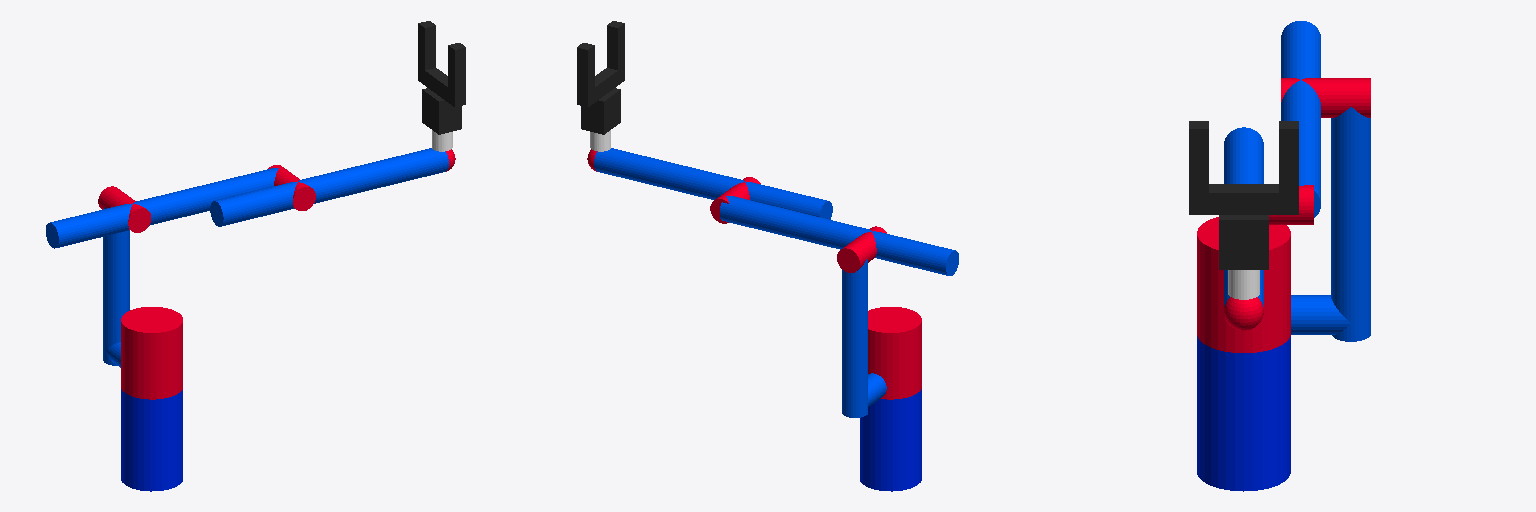
URDF robot description (pentaxis):
<?xml version="1.0" ?>
<!-- =================================================================================== -->
<!-- |    This document was autogenerated by xacro from pentaxis006.urdf.xacro         | -->
<!-- |    EDITING THIS FILE BY HAND IS NOT RECOMMENDED                                 | -->
<!-- =================================================================================== -->
<!-- Revolute-Revolute Manipulator -->
<robot name="pentaxis" xmlns:xacro="http://www.ros.org/wiki/xacro">
  <!-- Denavit-Hartenberg parameters -->
  <!-- not implemented -->
  <!-- OG: 0.252 -->
  <!-- not implemented -->
  <!-- -0.87+2*PI -->
  <!-- 1.50 -->
  <!-- 2.50 -->
  <!-- not implemented -->
  <link name="base_footprint">
    <visual>
      <origin rpy="0 0 0" xyz="0 0 0"/>
      <geometry>
        <box size="0.001 0.001 0.001"/>
      </geometry>
    </visual>
  </link>
  <joint name="base_footprint_joint" type="fixed">
    <origin rpy="0 0 0" xyz="0 0 0"/>
    <child link="base_link"/>
    <parent link="base_footprint"/>
  </joint>
  <link name="base_link">
    <visual>
      <geometry>
        <cylinder length="0.152" radius="0.0469507"/>
      </geometry>
      <origin rpy="0 0 0" xyz="0 0 0.076"/>
      <material name="blue1">
        <color rgba="0 0.2 1 1"/>
      </material>
    </visual>
  </link>
  <link name="link1">
    <!-- motor (in red) -->
    <visual>
      <geometry>
        <cylinder length="0.11" radius="0.0469507"/>
      </geometry>
      <origin rpy="0 0 0" xyz="0 0 0"/>
      <material name="red1">
        <color rgba="1 0 0.2 1"/>
      </material>
    </visual>
    <!--  -->
  </link>
  <!-- JOINT1 Base - Link1 -->
  <joint name="base_link_to_link1" type="revolute">
    <axis xyz="0 0 1"/>
    <limit effort="1000.0" lower="-2.5" upper="2.5" velocity="0.5"/>
    <parent link="base_link"/>
    <child link="link1"/>
    <!--z=base_link.length+link1.length/2 -->
    <origin xyz="0 0 0.207"/>
  </joint>
  <!-- Link 1_1 -->
  <link name="link1_1">
    <visual>
      <geometry>
        <cylinder length="0.06" radius="0.02"/>
      </geometry>
      <origin rpy="1.57079632679 0 0" xyz="0 0 0"/>
      <material name="blue2">
        <color rgba="0 0.4 1 1"/>
      </material>
    </visual>
  </link>
  <!-- -->
  <joint name="link1_to_link1_1" type="fixed">
    <parent link="link1"/>
    <child link="link1_1"/>
    <origin rpy="0 0 0" xyz="0 0.0769507 -0.035"/>
  </joint>
  <link name="link1_2">
    <visual>
      <geometry>
        <cylinder length="0.259" radius="0.02"/>
      </geometry>
      <origin rpy="0 0 0" xyz="0 0 0"/>
      <material name="blue2">
        <color rgba="0 0.4 1 1"/>
      </material>
    </visual>
  </link>
  <!-- -->
  <joint name="link1_1_to_link1_2" type="fixed">
    <axis xyz="0 0 0"/>
    <parent link="link1_1"/>
    <child link="link1_2"/>
    <!-- z=link1_2.length/2 - link1_1.radius = 0.1095 -->
    <!-- y=-link1_1.length/2 = -0.03 -->
    <origin rpy="0 0 0" xyz="0 0.03 0.1095"/>
  </joint>
  <!-- %%%%%%%%%%%%%%%%%%%%%%%%%%%%%%%%%%%%%%%%%%%%%%%%%%%%%% -->
  <!-- Link 2 -->
  <link name="link2">
    <visual>
      <geometry>
        <cylinder length="0.09" radius="0.02"/>
      </geometry>
      <origin rpy="1.57079632679 0 0" xyz="0 0 0"/>
      <material name="red1">
        <color rgba="1 0 0.2 1"/>
      </material>
    </visual>
  </link>
  <!-- -->
  <joint name="link1_to_link2" type="revolute">
    <axis xyz="0 1 0"/>
    <limit effort="1000.0" lower="-3.14159" upper="1.1" velocity="0.5"/>
    <parent link="link1_2"/>
    <child link="link2"/>
    <!-- y=link2.length/2 - link2.radius = 0.025 -->
    <!-- z=link1_2/2 = 0.1295 -->
    <origin rpy="0 0.0 0" xyz="0 -0.025 0.1295"/>
  </joint>
  <!-- link2_1 -->
  <link name="link2_1">
    <visual>
      <geometry>
        <cylinder length="0.392" radius="0.02"/>
      </geometry>
      <!-- <origin rpy="0 0 0" xyz="0 0 0.056"/> -->
      <origin rpy="0 1.57079632679 0" xyz="0 0 0"/>
      <material name="blue2">
        <color rgba="0 0.4 1 1"/>
      </material>
    </visual>
  </link>
  <!-- -->
  <joint name="link2_to_link2_1" type="fixed">
    <axis xyz="0 0 0"/>
    <parent link="link2"/>
    <child link="link2_1"/>
    <!-- y=link2.length/2 - link2_1.radius/2 = -0.025 -->
    <!-- x=link2_1.length/2 - 0.140 = 0.056 -->
    <origin rpy="0 0 0" xyz="0.056 -0.025 0"/>
  </joint>
  <!-- %%%%%%%%%%%%%%%%%%%%%%%%%%%%%%%%%%%%%%%%%%%%%%%%%%%%%% -->
  <!-- Link 3 -->
  <link name="link3">
    <visual>
      <geometry>
        <cylinder length="0.09" radius="0.02"/>
      </geometry>
      <origin rpy="-1.57079632679 0 0" xyz="0 0 0"/>
      <material name="red1">
        <color rgba="1 0 0.2 1"/>
      </material>
    </visual>
  </link>
  <!-- -->
  <joint name="link2_to_link3" type="revolute">
    <axis xyz="0 1 0"/>
    <limit effort="1000.0" lower="-2.15" upper="2.15" velocity="0.5"/>
    <parent link="link2_1"/>
    <child link="link3"/>
    <!-- y=-link2_1.length/2 - 0.0069507 -->
    <!-- x=link3.length/2 - link2_1.radius -->
    <origin rpy="0 0.0 0" xyz="0.196 -0.0319507 0"/>
  </joint>
  <!-- link3_1 -->
  <link name="link3_1">
    <visual>
      <geometry>
        <cylinder length="0.39" radius="0.02"/>
      </geometry>
      <origin rpy="0 1.57079632679 0" xyz="0 0 0"/>
      <material name="blue2">
        <color rgba="0 0.4 1 1"/>
      </material>
    </visual>
  </link>
  <!-- -->
  <joint name="link3_to_link3_1" type="fixed">
    <axis xyz="0 0 0"/>
    <parent link="link3"/>
    <child link="link3_1"/>
    <!-- y=link3.length/2 - link3_1.radius-->
    <!-- x=link3_1/2 - 0.140 -->
    <origin rpy="0 0 0" xyz="0.055 -0.025 0"/>
  </joint>
  <!-- %%%%%%%%%%%%%%%%%%%%%%%%%%%%%%%%%%%%%%%%%%%%%%%%%%%%%% -->
  <link name="link4">
    <visual>
      <geometry>
        <sphere radius="0.02"/>
      </geometry>
      <origin rpy="0 0 0" xyz="0 0 0"/>
      <material name="red1">
        <color rgba="1 0 0.2 1"/>
      </material>
    </visual>
  </link>
  <!-- -->
  <joint name="link3_to_link4" type="revolute">
    <axis xyz="0 1 0"/>
    <limit effort="1000.0" lower="0" upper="3.14159" velocity="0.5"/>
    <parent link="link3_1"/>
    <child link="link4"/>
    <!-- z=link3_1.length/2 -->
    <origin rpy="0 0.0 0" xyz="0.195 0 0"/>
  </joint>
  <!-- %%%%%%%%%%%%%%%%%%%%%%%%%%%%%%%%%%%%%%%%%%%%%%%%%%%%%% -->
  <link name="link5">
    <visual>
      <geometry>
        <cylinder length="0.035" radius="0.016"/>
      </geometry>
      <!-- <origin rpy="0 0 0" xyz="0 0 0"/> -->
      <!-- z=link5.length/2 -->
      <origin rpy="0 0 0" xyz="0 0 0.002"/>
      <material name="color2">
        <color rgba="1 1 1 1"/>
      </material>
    </visual>
  </link>

  <joint name="link4_to_link5" type="revolute">
    <axis xyz="0 0 1"/>
		<mimic joint="link3_to_link4" multiplier="1.0" offset="0.0" />
    <!-- <mimic joint="eef2_to_eef_left" multiplier="1.0" offset="0.0"/> -->
    <limit effort="1000.0" lower="-1.570796327" upper="1.570796327" velocity="0.5"/>
    <parent link="link4"/>
    <child link="link5"/>
    <!-- <origin rpy="0 0 0" xyz="0 0 0.0275"/> -->
    <origin rpy="0 0 0" xyz="0 0 0.035"/>
    
  </joint>
  <!-- %%%%%%%%%%%%%%%%%%%%%%%%%%%%%%%%%%%%%%%%%%%%%%%%%%%%%% -->
  <link name="eef1">
    <visual>
      <geometry>
        <box size="0.05 0.04 0.055"/>
      </geometry>
      <origin rpy="0 0 0" xyz="0 0 0"/>
      <material name="color3">
        <color rgba="0.2 0.2 0.2 1"/>
      </material>
    </visual>
  </link>
  <joint name="link5_to_eef1" type="fixed">
    <parent link="link5"/>
    <child link="eef1"/>
    <!-- z=?-->
    <origin rpy="0 0 -1.570796327" xyz="0 0 0.047"/>
  </joint>
  <link name="eef2">
    <visual>
      <geometry>
        <box size="0.11 0.02 0.025"/>
      </geometry>
      <origin rpy="0 0 0" xyz="0 0 0"/>
      <material name="color3">
        <color rgba="0.2 0.2 0.2 1"/>
      </material>
    </visual>
  </link>
  <joint name="eef1_to_eef2" type="fixed">
    <parent link="eef1"/>
    <child link="eef2"/>
    <origin rpy="0 0 0" xyz="0 0 0.04"/>
  </joint>
  <link name="eef_left">
    <visual>
      <geometry>
        <box size="0.02 0.02 0.07"/>
      </geometry>
      <origin rpy="0 0 0" xyz="0 0 0"/>
      <material name="color3">
        <color rgba="0.2 0.2 0.2 1"/>
      </material>
    </visual>
  </link>
  <joint name="eef2_to_eef_left" type="prismatic">
    <axis xyz="1 0 0"/>
    <limit effort="1000.0" lower="-0.045" upper="0" velocity="0.5"/>
    <parent link="eef2"/>
    <child link="eef_left"/>
    <origin rpy="0 0 0" xyz="0.045 0 0.0475"/>
  </joint>
  <link name="eef_right">
    <visual>
      <geometry>
        <box size="0.02 0.02 0.07"/>
      </geometry>
      <origin rpy="0 0 0" xyz="0 0 0"/>
      <material name="color3">
        <color rgba="0.2 0.2 0.2 1"/>
      </material>
    </visual>
  </link>
  <joint name="eef2_to_eef_right" type="prismatic">
    <axis xyz="-1 0 0"/>
    <limit effort="1000.0" lower="-0.045" upper="0" velocity="0.5"/>
    <mimic joint="eef2_to_eef_left" multiplier="1.0" offset="0.0"/>
    <parent link="eef2"/>
    <child link="eef_right"/>
    <origin rpy="0 0 0" xyz="-0.045 0 0.0475"/>
  </joint>
</robot>

--- Render facts (derived) ---
The picture shows the robot from 3 angles, left to right: view 1: azimuth 30°, elevation 25°; view 2: azimuth 150°, elevation 25°; view 3: azimuth 270°, elevation 25°; orthographic projection.
Model pentaxis with 15 links and 14 joints (5 revolute, 2 prismatic, 7 fixed), rooted at base_footprint, posed all joints at 0.
Links seen in each view (by area): view 1: link3_1, base_link, link1, link2_1, link1_2, eef1, link2, eef2, eef_left, link3, eef_right; view 2: link2_1, base_link, link3_1, link1, link1_2, eef1, link2, eef2, eef_right, eef_left, link3; view 3: base_link, link1_2, link1, link2_1, eef2, eef1, link3_1, link2, link1_1, eef_left, eef_right, link4 (+2 smaller).
Boxes of the visible links, x1=… form: link3_1: x1=210, y1=148, x2=448, y2=226; base_link: x1=121, y1=389, x2=182, y2=491; link1: x1=121, y1=307, x2=182, y2=399; link2_1: x1=46, y1=168, x2=278, y2=248; link1_2: x1=103, y1=207, x2=129, y2=365; eef1: x1=422, y1=88, x2=461, y2=134; link2: x1=98, y1=186, x2=150, y2=232; eef2: x1=418, y1=66, x2=465, y2=106; eef_left: x1=448, y1=43, x2=465, y2=91; link3: x1=268, y1=165, x2=315, y2=210; eef_right: x1=418, y1=21, x2=435, y2=69; link2_1: x1=720, y1=196, x2=958, y2=275; base_link: x1=860, y1=389, x2=921, y2=491; link3_1: x1=594, y1=148, x2=832, y2=219; link1: x1=868, y1=307, x2=921, y2=399; link1_2: x1=842, y1=259, x2=867, y2=417; eef1: x1=581, y1=88, x2=620, y2=134; link2: x1=837, y1=226, x2=886, y2=272; eef2: x1=577, y1=66, x2=624, y2=106; eef_right: x1=577, y1=43, x2=594, y2=91; eef_left: x1=607, y1=21, x2=624, y2=69; link3: x1=710, y1=177, x2=760, y2=223; base_link: x1=1197, y1=336, x2=1290, y2=491; link1_2: x1=1331, y1=107, x2=1370, y2=341; link1: x1=1197, y1=217, x2=1290, y2=352; link2_1: x1=1281, y1=21, x2=1320, y2=217; eef2: x1=1189, y1=184, x2=1298, y2=214; eef1: x1=1219, y1=215, x2=1268, y2=269; link3_1: x1=1224, y1=127, x2=1263, y2=306; link2: x1=1281, y1=78, x2=1370, y2=117; link1_1: x1=1291, y1=295, x2=1350, y2=334; eef_left: x1=1189, y1=121, x2=1208, y2=192; eef_right: x1=1279, y1=121, x2=1298, y2=192; link4: x1=1224, y1=297, x2=1263, y2=330.
Bounding box of the posed robot: 0.662 × 0.182 × 0.616 m (x, y, z).
Geometry: primitives only (box / cylinder / sphere), no mesh files.
